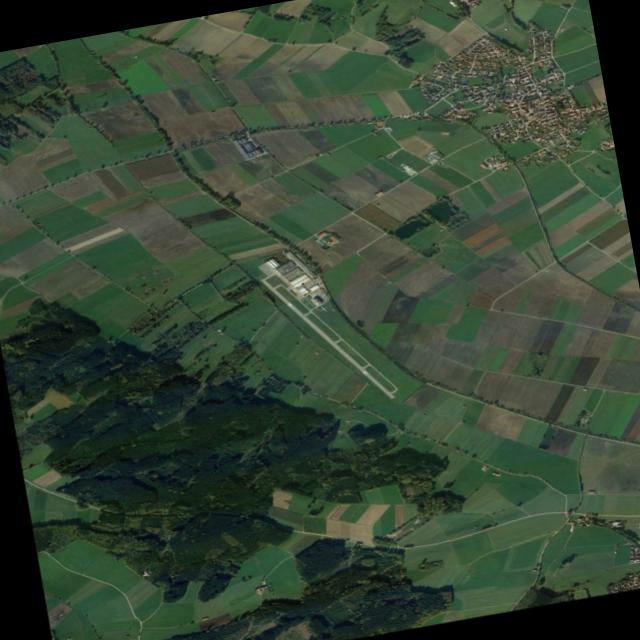plane: (140, 569, 153, 578)
